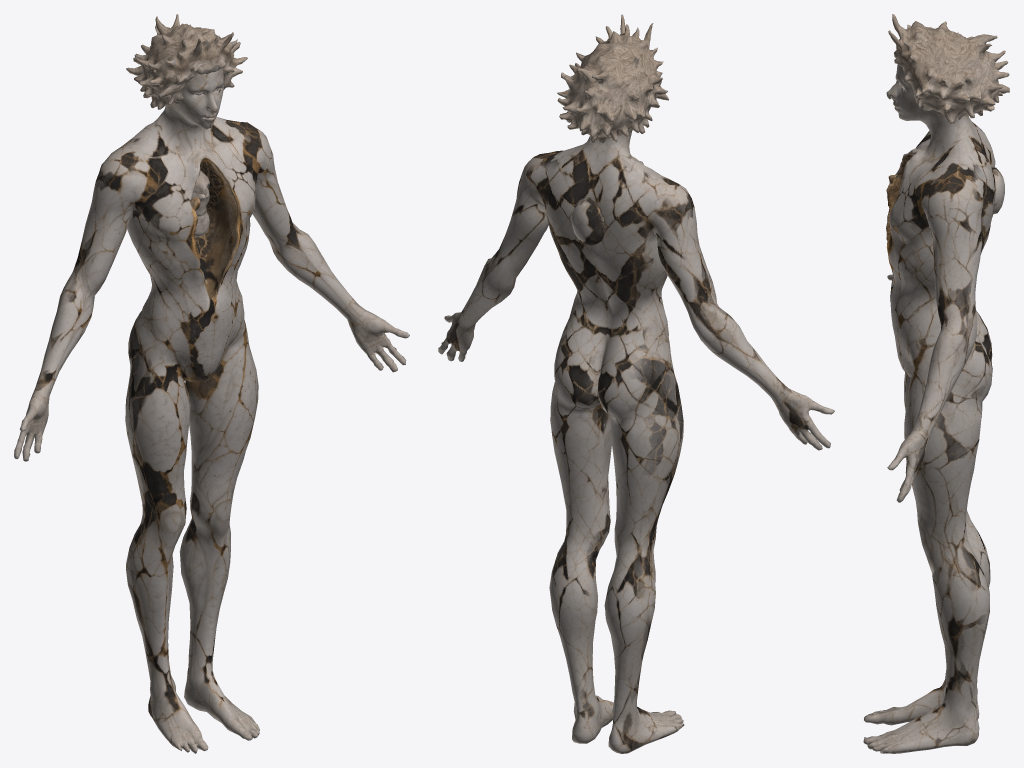
File: gran-avatar.glb
3 renders of one model, left to right at view 1: azimuth 30°, elevation 25°; view 2: azimuth 150°, elevation 25°; view 3: azimuth 270°, elevation 25°, orthographic.
Size of the model in its own units: 0.584 by 1 by 0.186.
1 material, 1 textured.
